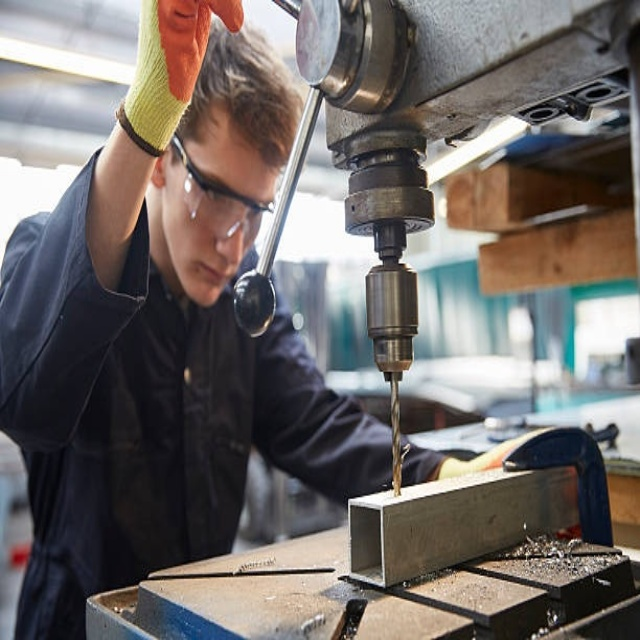Gafas: (169, 128, 278, 246)
Guantes: (118, 0, 243, 153), (444, 430, 545, 477)
Sin_mascara: (186, 248, 237, 307)
